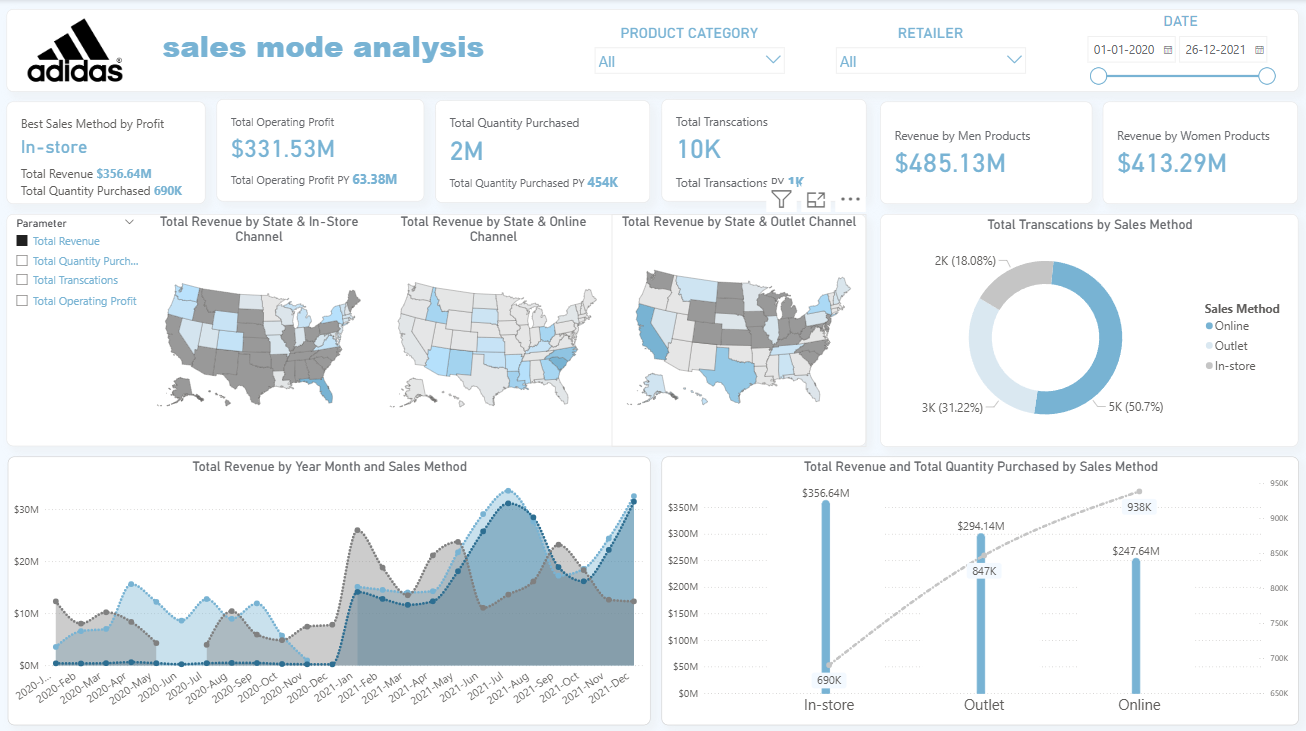

Layout of this report page (visuals, bound fields, positions):
{"tool":"powerbi","page":{"name":"Sales Mode Analysis","canvas":[1920,1080],"ordinal":3},"visuals":[{"type":"shape","box":[11,315.5,1262,341.2],"z":0},{"type":"lineStackedColumnComboChart","fields":{"Y":["Measures Table.Total Revenue"],"Y2":["Measures Table.Total Quantity Purchased"],"Category":["Adidas Sales Data.Sales Method"]},"box":[972.2,671.3,935.5,394.4],"z":1000},{"type":"shape","box":[10.3,14.4,1895.7,121.4],"z":2000},{"type":"image","box":[26.8,24.7,168.8,102.9],"z":3000},{"type":"cardVisual","fields":{"Data":["Min(Adidas Sales Data.Sales Method)"]},"box":[10.3,150.3,292.3,150.3],"z":4000},{"type":"cardVisual","fields":{"Data":["Measures Table.Revenue by Men Products"]},"box":[1292.6,150.3,310.8,150.3],"z":5000},{"type":"cardVisual","fields":{"Data":["Measures Table.Total Transcations"]},"box":[971.5,147.4,300.5,150.3],"z":6000},{"type":"cardVisual","fields":{"Data":["Measures Table.Revenue by Women Products"]},"box":[1619.9,150.3,286.1,150.3],"z":7000},{"type":"textbox","box":[234.6,32.9,526.9,88.5],"z":8000},{"type":"slicer","title":"RETAILER","fields":{"Values":["Adidas Sales Data.Retailer"]},"box":[1218.5,37,298.5,82.3],"z":9000},{"type":"slicer","title":"PRODUCT CATEGORY","fields":{"Values":["Adidas Sales Data.Product Category"]},"box":[864.5,37,298.5,82.3],"z":10000},{"type":"slicer","title":"DATE","fields":{"Values":["DateTable.Date"]},"box":[1584.9,20.6,298.5,113.2],"z":11000},{"type":"slicer","fields":{"Values":["Parameter.Parameter"]},"box":[12.8,315.5,198.1,185.3],"z":12000},{"type":"areaChart","fields":{"Category":["DateTable.Year Month"],"Series":["Adidas Sales Data.Sales Method"],"Y":["Measures Table.Total Revenue"]},"box":[12.8,671.3,942.8,394.4],"z":13000},{"type":"shapeMap","fields":{"Value":["Measures Table.Total Revenue"],"Category":["Adidas Sales Data.State"]},"box":[210.9,315.5,341.2,341.2],"z":14000},{"type":"shapeMap","fields":{"Value":["Measures Table.Total Revenue"],"Category":["Adidas Sales Data.State"]},"box":[552.1,315.5,346.7,341.2],"z":15000},{"type":"shapeMap","fields":{"Value":["Measures Table.Total Revenue"],"Category":["Adidas Sales Data.State"]},"box":[898.8,315.5,374.2,341.2],"z":16000},{"type":"donutChart","fields":{"Y":["Measures Table.Total Transcations"],"Category":["Adidas Sales Data.Sales Method"]},"box":[1292.6,314.9,613.4,341.7],"z":17000},{"type":"cardVisual","fields":{"Data":["Measures Table.Total Quantity Purchased"]},"box":[640.1,149.4,314.9,150.3],"z":18000},{"type":"cardVisual","fields":{"Data":["Measures Table.Total Operating Profit"]},"box":[319,147.4,304.6,150.3],"z":19000}]}

Visuals, with their boxes in screenshot pixels (x1, y1, x2, y2), scaled from the page's 1920x1080 canvas onto the 1306x731 screenshot:
shape: [x1=7, y1=214, x2=866, y2=444]
lineStackedColumnComboChart - Measures Table.Total Revenue x Measures Table.Total Quantity Purchased: [x1=661, y1=454, x2=1298, y2=721]
shape: [x1=7, y1=10, x2=1296, y2=92]
image: [x1=18, y1=17, x2=133, y2=86]
cardVisual - Min(Adidas Sales Data.Sales Method): [x1=7, y1=102, x2=206, y2=203]
cardVisual - Measures Table.Revenue by Men Products: [x1=879, y1=102, x2=1091, y2=203]
cardVisual - Measures Table.Total Transcations: [x1=661, y1=100, x2=865, y2=201]
cardVisual - Measures Table.Revenue by Women Products: [x1=1102, y1=102, x2=1296, y2=203]
textbox: [x1=160, y1=22, x2=518, y2=82]
"RETAILER" slicer: [x1=829, y1=25, x2=1032, y2=81]
"PRODUCT CATEGORY" slicer: [x1=588, y1=25, x2=791, y2=81]
"DATE" slicer: [x1=1078, y1=14, x2=1281, y2=91]
slicer - Parameter.Parameter: [x1=9, y1=214, x2=143, y2=339]
areaChart - DateTable.Year Month x Adidas Sales Data.Sales Method: [x1=9, y1=454, x2=650, y2=721]
shapeMap - Measures Table.Total Revenue x Adidas Sales Data.State: [x1=143, y1=214, x2=376, y2=444]
shapeMap - Measures Table.Total Revenue x Adidas Sales Data.State: [x1=376, y1=214, x2=611, y2=444]
shapeMap - Measures Table.Total Revenue x Adidas Sales Data.State: [x1=611, y1=214, x2=866, y2=444]
donutChart - Measures Table.Total Transcations x Adidas Sales Data.Sales Method: [x1=879, y1=213, x2=1296, y2=444]
cardVisual - Measures Table.Total Quantity Purchased: [x1=435, y1=101, x2=650, y2=203]
cardVisual - Measures Table.Total Operating Profit: [x1=217, y1=100, x2=424, y2=201]
